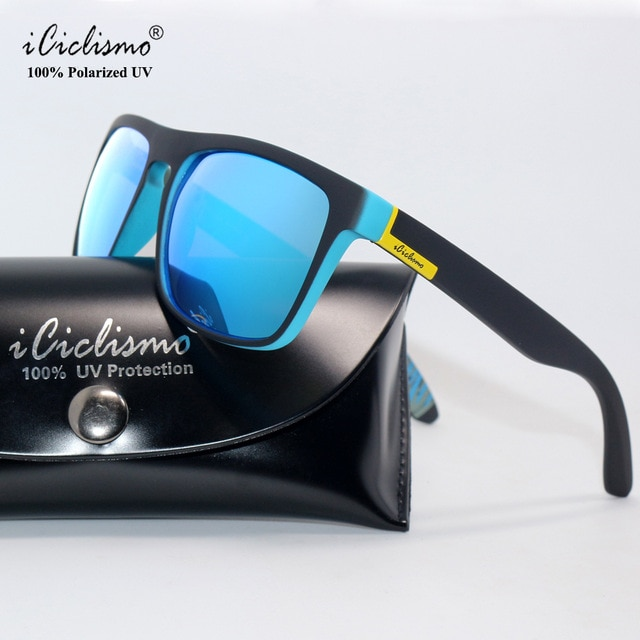sunglasses: (44, 104, 634, 473)
